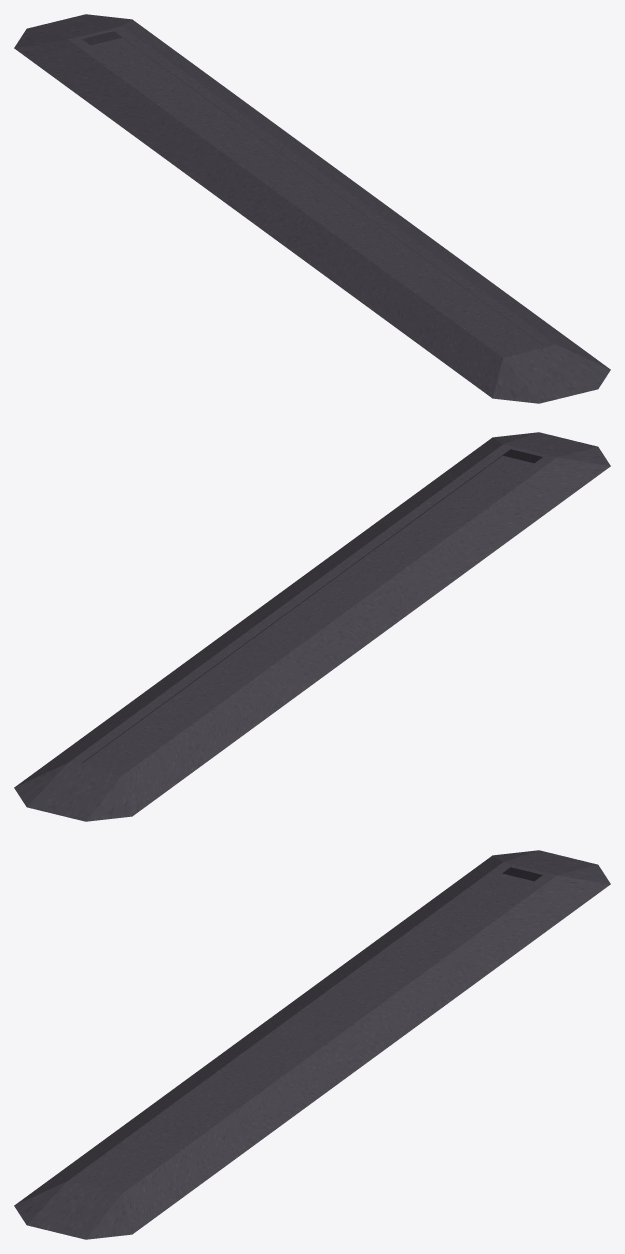
File: OperatingRayling.fbx
3 renders of one model, top to bottom at view 1: azimuth 30°, elevation 25°; view 2: azimuth 150°, elevation 25°; view 3: azimuth 330°, elevation 25°, orthographic.
Parts seen in each view (by area): view 1: GroundRayling; view 2: GroundRayling; view 3: GroundRayling.
Boxes of the visible parts, x1,y1,x2,y2 form: GroundRayling: (14,14,610,403); GroundRayling: (14,432,610,821); GroundRayling: (14,850,610,1239).
Bounding box in the file's own units: 0.44 × 3.3 × 0.06.
